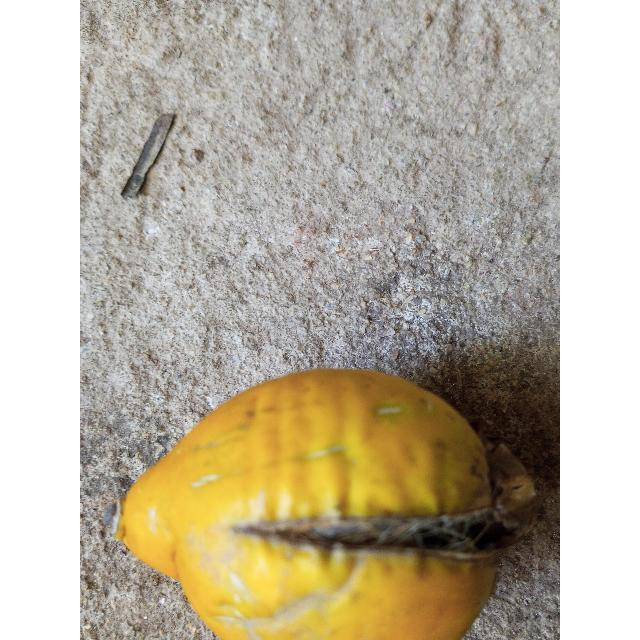damaged: (109, 369, 537, 640)
